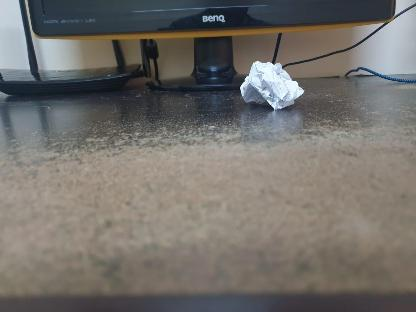Paper: (240, 60, 304, 116)
